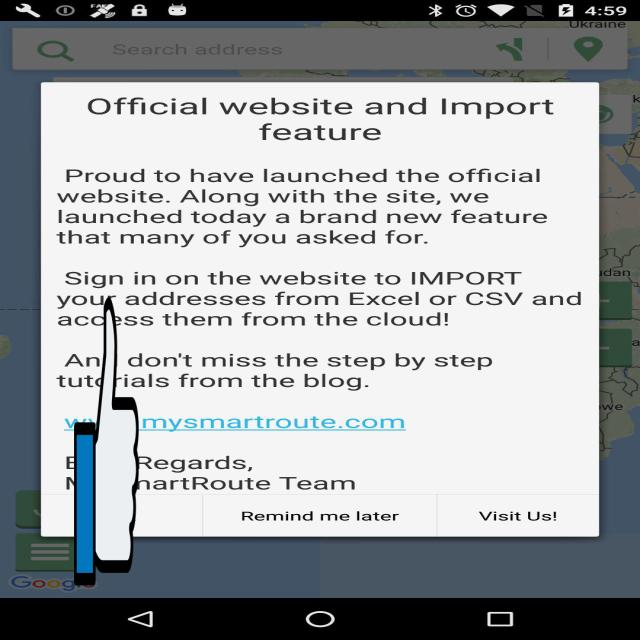privacy zuckering: (74, 290, 139, 592)
